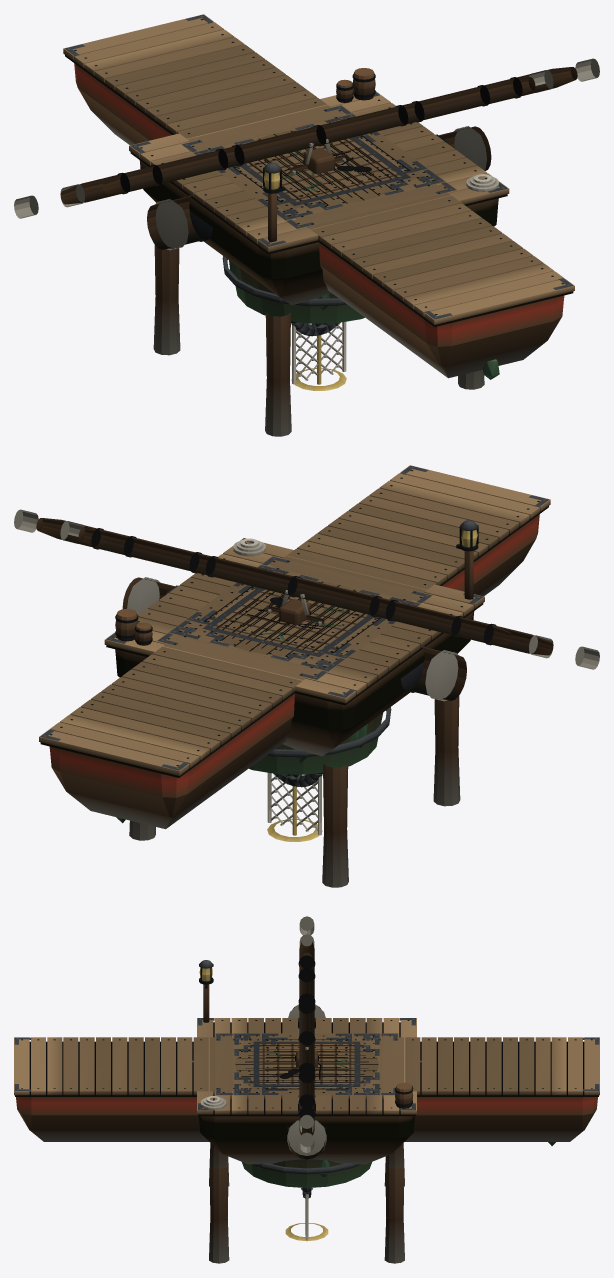
Rendered from coast-2-B1quu0H6.glb.
3 views of the same model, one above another, from view 1: azimuth 30°, elevation 25°; view 2: azimuth 150°, elevation 25°; view 3: azimuth 270°, elevation 25° (orthographic). The views are drawn at different scales.
Parts seen in each view (by area): view 1: block_7x2x32#0, pad_12x2x12#0, mount_10.6#0, mount_12.7#0, disc_8x1.5#0, block_8x2x5#0, block_8x2x10#0, beam_16x2x2#0, truss_10#0, block_7x2x8#0, support_0_square#0, block_4x2x8#0 (+2 smaller); view 2: block_7x2x32#0, pad_12x2x12#0, mount_10.6#0, mount_12.7#0, disc_8x1.5#0, block_8x2x5#0, block_8x2x10#0, beam_16x2x2#0, truss_10#0, block_7x2x8#0, support_0_square#0, block_4x2x8#0 (+4 smaller); view 3: block_7x2x32#0, pad_12x2x12#0, disc_8x1.5#0, block_8x2x5#0, block_8x2x10#0, mount_12.7#0, mount_10.6#0, beam_16x2x2#0, block_7x2x8#0, disc_7x1.5#0, disc_5x1.5#0, block_8x2x7#0.
Boxes of the visible parts, box(x1,y1,x2,y2) form: block_7x2x32#0: box(63, 14, 574, 379); pad_12x2x12#0: box(129, 68, 509, 436); mount_10.6#0: box(60, 70, 553, 207); mount_12.7#0: box(14, 58, 599, 218); disc_8x1.5#0: box(222, 129, 410, 323); block_8x2x5#0: box(217, 131, 427, 207); block_8x2x10#0: box(181, 105, 456, 228); beam_16x2x2#0: box(147, 126, 491, 250); truss_10#0: box(289, 155, 346, 384); block_7x2x8#0: box(203, 116, 435, 218); support_0_square#0: box(291, 323, 346, 390); block_4x2x8#0: box(233, 123, 405, 210); block_7x2x32#0: box(39, 465, 550, 829); pad_12x2x12#0: box(104, 520, 484, 887); mount_10.6#0: box(60, 521, 553, 658); mount_12.7#0: box(14, 509, 599, 669); disc_8x1.5#0: box(203, 580, 391, 774); block_8x2x5#0: box(186, 582, 396, 658); block_8x2x10#0: box(157, 556, 432, 679); beam_16x2x2#0: box(122, 577, 466, 701); truss_10#0: box(267, 606, 324, 835); block_7x2x8#0: box(178, 567, 410, 669); support_0_square#0: box(267, 774, 322, 841); block_4x2x8#0: box(208, 574, 380, 661); block_7x2x32#0: box(14, 1037, 599, 1145); pad_12x2x12#0: box(197, 960, 416, 1263); disc_8x1.5#0: box(235, 1039, 378, 1187); block_8x2x5#0: box(261, 1033, 352, 1098); block_8x2x10#0: box(215, 1033, 398, 1099); mount_12.7#0: box(298, 916, 315, 1152); mount_10.6#0: box(298, 934, 315, 1132); beam_16x2x2#0: box(287, 1004, 326, 1159); block_7x2x8#0: box(233, 1037, 380, 1091); disc_7x1.5#0: box(245, 1049, 368, 1086); disc_5x1.5#0: box(263, 1047, 350, 1082); block_8x2x7#0: box(243, 1033, 370, 1098).
Bounding box in the file's own units: 28.71 × 13.97 × 32.
